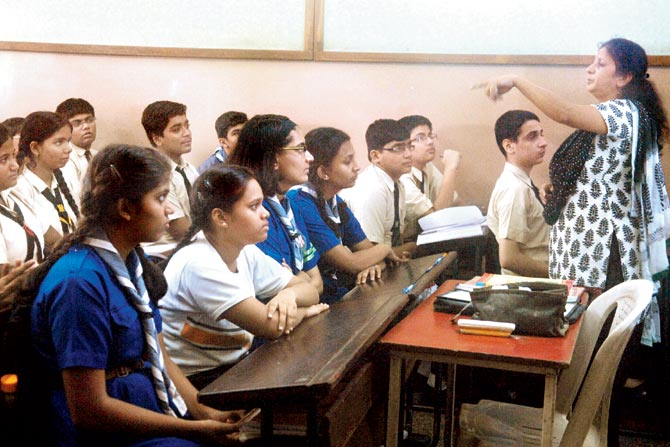invigilator: (546, 31, 663, 336)
student: (64, 150, 189, 383), (191, 166, 291, 356), (488, 113, 554, 284), (401, 99, 474, 226), (62, 83, 126, 170), (368, 118, 414, 235), (26, 109, 81, 194), (142, 95, 201, 165)
